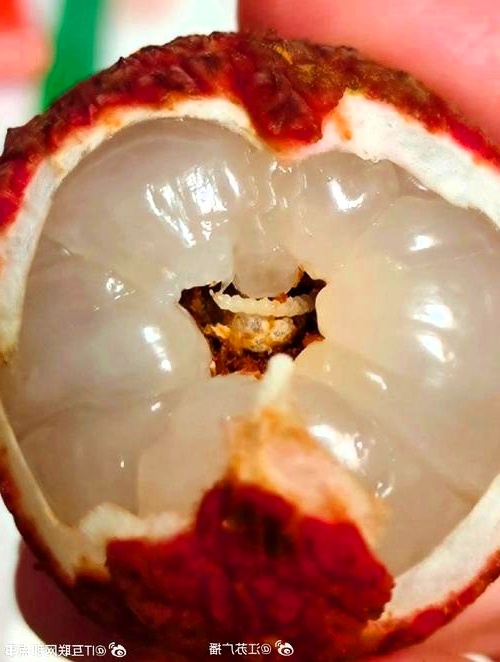Borer: (207, 269, 344, 322)
